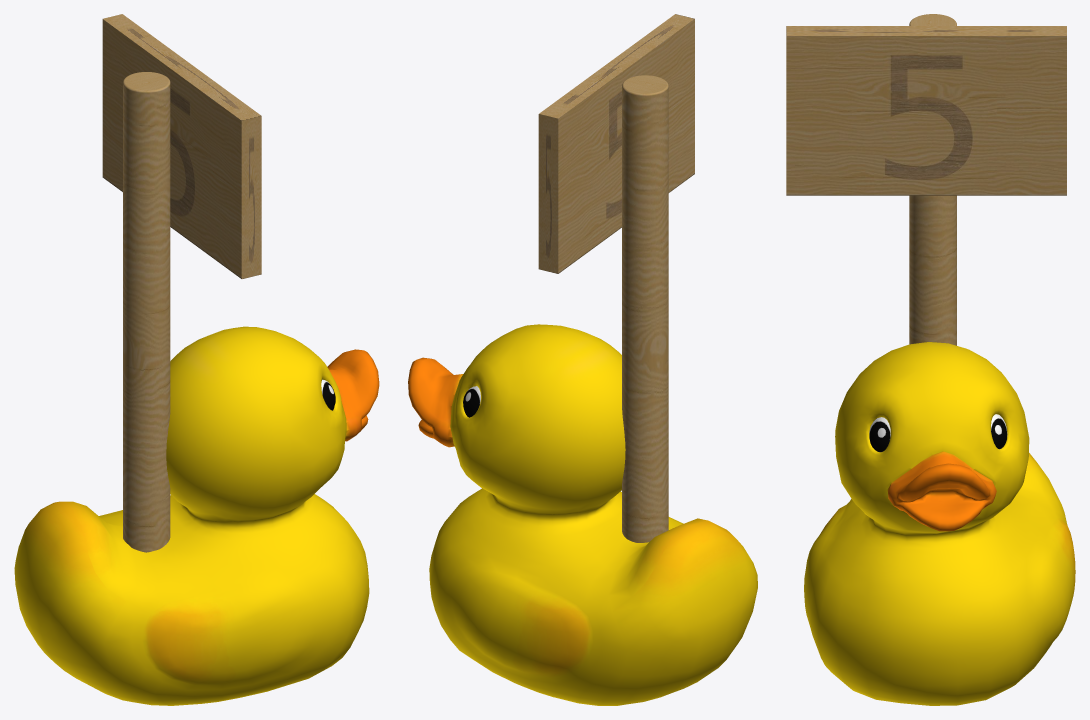
File: duck_5.glb
3 renders of one model, left to right at view 1: azimuth 30°, elevation 25°; view 2: azimuth 150°, elevation 25°; view 3: azimuth 270°, elevation 25°, orthographic. The views are drawn at different scales.
Parts seen in each view (by area): view 1: LOD3spShape, Cylinder, Box; view 2: LOD3spShape, Cylinder, Box; view 3: LOD3spShape, Box, Cylinder.
Part boxes in pixels (box(x1,y1,x2,y2)): LOD3spShape: box(14, 326, 379, 705); Cylinder: box(123, 72, 170, 552); Box: box(102, 14, 261, 278); LOD3spShape: box(408, 324, 757, 705); Cylinder: box(622, 75, 668, 542); Box: box(538, 14, 694, 273); LOD3spShape: box(804, 342, 1075, 705); Box: box(786, 26, 1066, 195); Cylinder: box(909, 14, 956, 345).
Size of the model in its own units: 1.66 by 2.92 by 1.25.
Materials: 3 (3 with a texture image).
